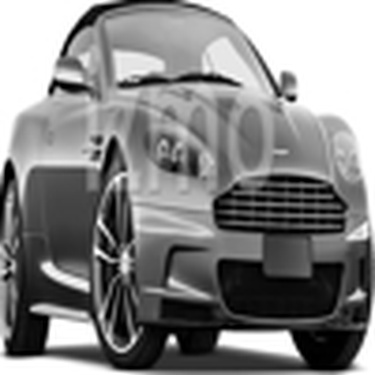car: (4, 9, 374, 371)
